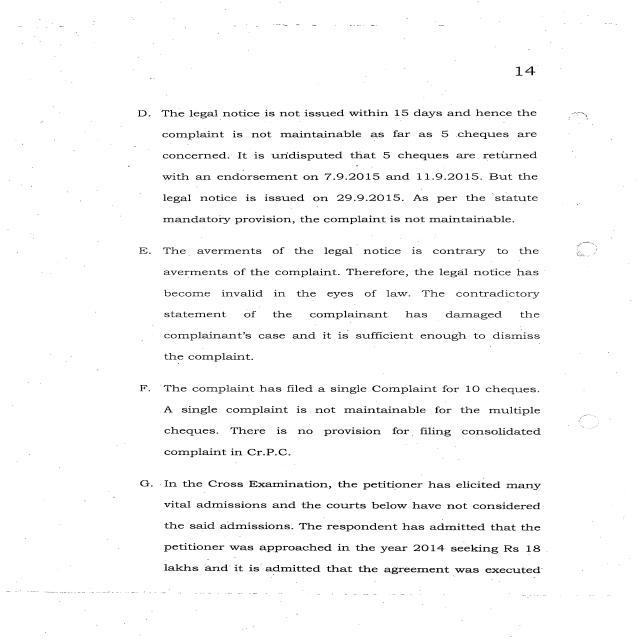page-number: (406, 0, 640, 100)
